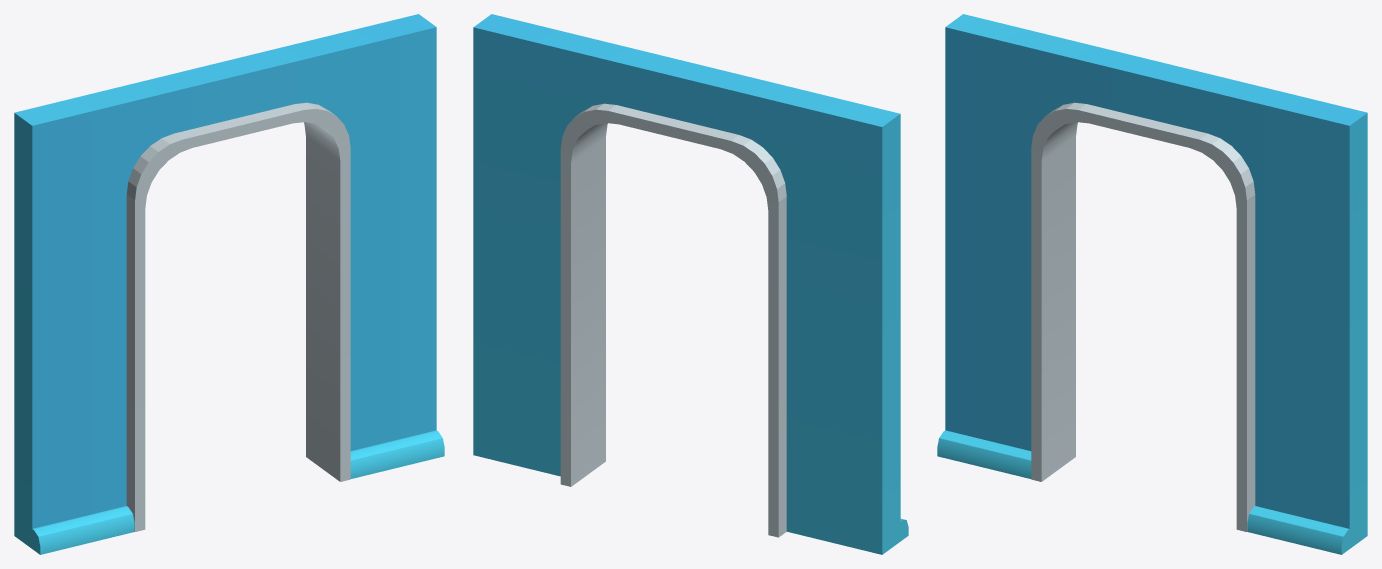
Rendered from DoorWall004.fbx.
3 views of the same model, side by side, from view 1: azimuth 30°, elevation 25°; view 2: azimuth 150°, elevation 25°; view 3: azimuth 330°, elevation 25° (orthographic).
Parts seen in each view (by area): view 1: DoorWall004; view 2: DoorWall004; view 3: DoorWall004.
Part boxes in pixels (left/top/right/bottom): DoorWall004: left=14, top=14, right=444, bottom=554; DoorWall004: left=473, top=14, right=908, bottom=554; DoorWall004: left=937, top=14, right=1367, bottom=554.
Size of the model in its own units: 250 by 250 by 36.86.
